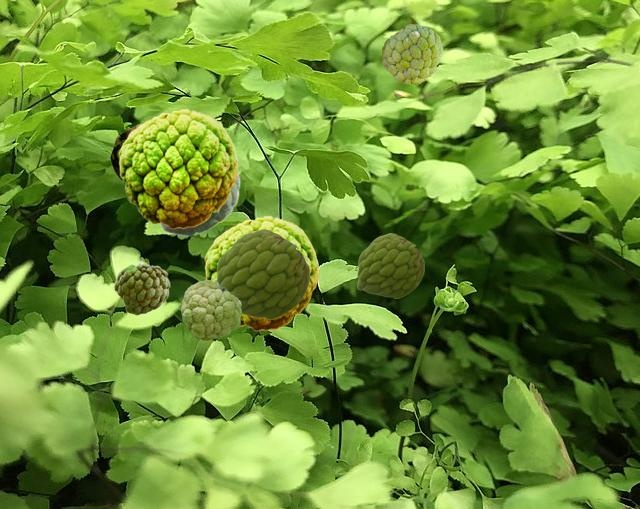atis: (118, 108, 236, 228), (204, 215, 317, 330), (216, 229, 308, 318), (159, 169, 240, 235), (357, 233, 423, 297), (381, 24, 441, 83), (181, 280, 240, 339), (113, 261, 169, 314), (110, 124, 139, 183)
